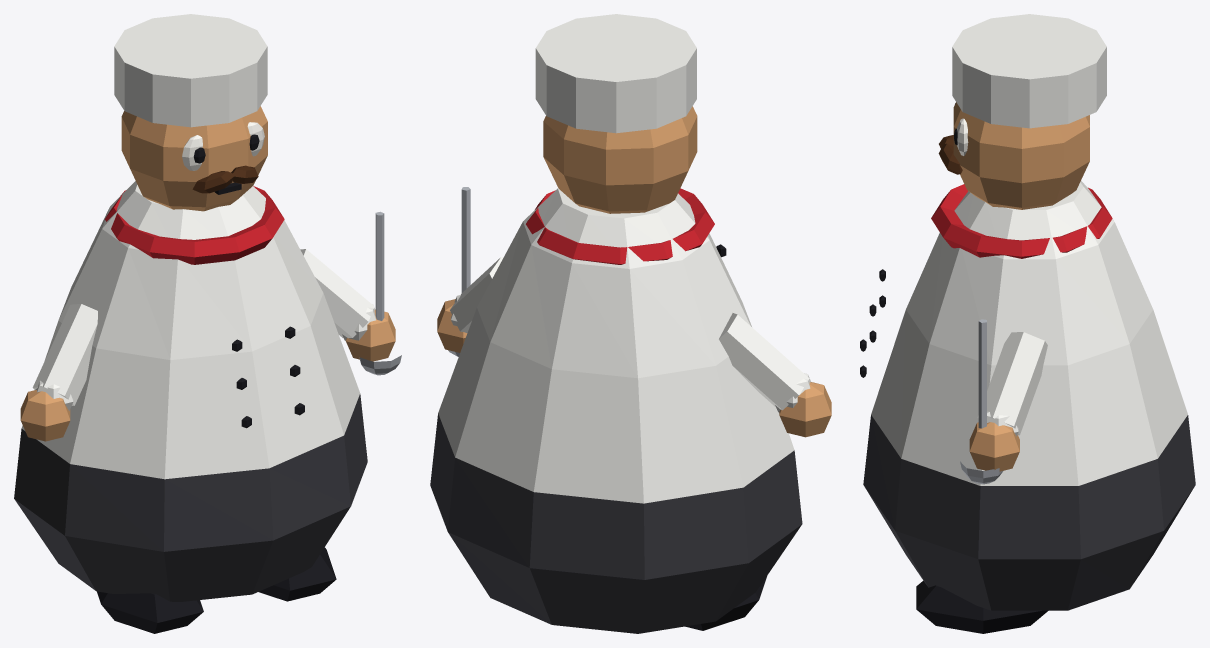
Rendered from npc_cocinero.glb.
3 renders of one model, left to right at view 1: azimuth 30°, elevation 25°; view 2: azimuth 150°, elevation 25°; view 3: azimuth 270°, elevation 25°, orthographic. The views are drawn at different scales.
Parts seen in each view (by area): view 1: body_chef_white, body_check_pants, cap_chef_white, head_skin_arena, arms_chef_white, legs_black, body_neckerchief_red, arms_skin_arena, props_ladle_steel, face_hair_brown, face_white, body_black; view 2: body_chef_white, body_check_pants, cap_chef_white, head_skin_arena, arms_chef_white, body_neckerchief_red, arms_skin_arena, props_ladle_steel, legs_black; view 3: body_chef_white, body_check_pants, cap_chef_white, head_skin_arena, arms_chef_white, body_neckerchief_red, legs_black, arms_skin_arena, props_ladle_steel, face_hair_brown.
Part boxes in pixels (left/top/right/bottom): body_chef_white: left=21, top=181, right=360, bottom=479; body_check_pants: left=14, top=394, right=367, bottom=601; cap_chef_white: left=114, top=14, right=267, bottom=127; head_skin_arena: left=121, top=106, right=267, bottom=211; arms_chef_white: left=32, top=249, right=375, bottom=410; legs_black: left=97, top=547, right=336, bottom=633; body_neckerchief_red: left=105, top=186, right=284, bottom=264; arms_skin_arena: left=20, top=309, right=395, bottom=441; props_ladle_steel: left=359, top=211, right=401, bottom=375; face_hair_brown: left=192, top=165, right=258, bottom=193; face_white: left=182, top=122, right=264, bottom=170; body_black: left=232, top=326, right=304, bottom=428; body_chef_white: left=438, top=188, right=794, bottom=503; body_check_pants: left=430, top=413, right=802, bottom=633; cap_chef_white: left=535, top=14, right=696, bottom=133; head_skin_arena: left=543, top=106, right=697, bottom=213; arms_chef_white: left=450, top=257, right=810, bottom=412; body_neckerchief_red: left=526, top=188, right=714, bottom=264; arms_skin_arena: left=437, top=299, right=831, bottom=437; props_ladle_steel: left=448, top=187, right=470, bottom=356; legs_black: left=685, top=576, right=766, bottom=630; body_chef_white: left=871, top=181, right=1187, bottom=485; body_check_pants: left=863, top=415, right=1195, bottom=610; cap_chef_white: left=952, top=14, right=1106, bottom=128; head_skin_arena: left=953, top=102, right=1089, bottom=209; arms_chef_white: left=977, top=332, right=1047, bottom=436; body_neckerchief_red: left=931, top=184, right=1112, bottom=258; legs_black: left=916, top=580, right=1048, bottom=633; arms_skin_arena: left=969, top=422, right=1019, bottom=471; props_ladle_steel: left=960, top=319, right=1002, bottom=484; face_hair_brown: left=938, top=135, right=962, bottom=174.
Size of the model in its own units: 1.13 by 1.56 by 0.8682.
